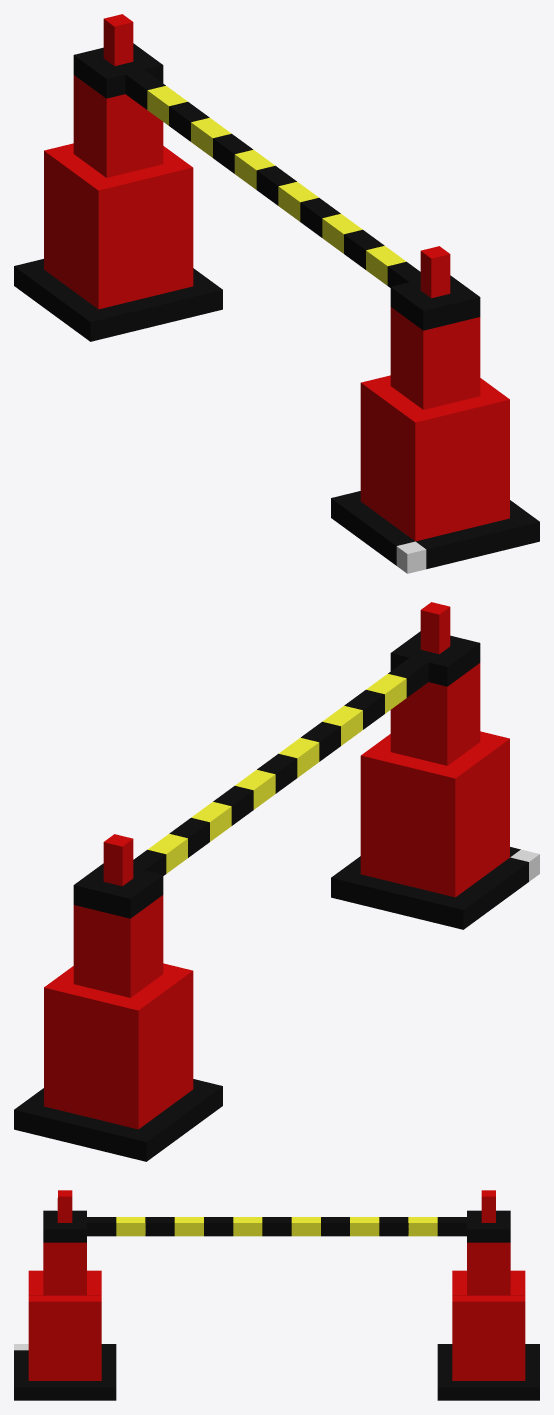
The picture shows the model from 3 angles, top to bottom: view 1: azimuth 30°, elevation 25°; view 2: azimuth 150°, elevation 25°; view 3: azimuth 270°, elevation 25°; orthographic projection. The views are drawn at different scales.
Parts seen in each view (by area): view 1: 立方体.471, 立方体.050, 立方体.506, 立方体.517, 立方体.518, 立方体, 立方体.349, 立方体.374; view 2: 立方体.512, 立方体.043, 立方体.477, 立方体.517, 立方体.518, 立方体.092, 立方体.369, 立方体.394; view 3: 立方体.014, 立方体.049, 立方体.056, 立方体.091, 立方体.353, 立方体.398, 立方体.481, 立方体.486, 立方体.489, 立方体.491, 立方体.494, 立方体.499 (+46 smaller).
Part boxes in pixels (box(x1,y1,x2,y2)): 立方体.471: box(412, 298, 442, 330); 立方体.050: box(79, 309, 109, 341); 立方体.506: box(95, 66, 125, 98); 立方体.517: box(420, 246, 450, 278); 立方体.518: box(103, 14, 133, 46); 立方体: box(396, 541, 426, 573); 立方体.349: box(404, 410, 434, 442); 立方体.374: box(87, 178, 117, 210); 立方体.512: box(111, 886, 141, 918); 立方体.043: box(444, 897, 474, 929); 立方体.477: box(428, 654, 458, 686); 立方体.517: box(420, 602, 450, 634); 立方体.518: box(103, 834, 133, 866); 立方体.092: box(127, 1129, 157, 1161); 立方体.369: box(436, 766, 466, 798); 立方体.394: box(119, 998, 149, 1030); 立方体.014: box(28, 1381, 43, 1400); 立方体.049: box(101, 1381, 116, 1400); 立方体.056: box(437, 1381, 452, 1400); 立方体.091: box(510, 1381, 525, 1400); 立方体.353: box(28, 1295, 43, 1314); 立方体.398: box(510, 1295, 525, 1314); 立方体.481: box(101, 1217, 116, 1236); 立方体.486: box(174, 1217, 189, 1236); 立方体.489: box(218, 1217, 233, 1236); 立方体.491: box(247, 1217, 262, 1236); 立方体.494: box(291, 1217, 306, 1236); 立方体.499: box(364, 1217, 379, 1236).
Size of the model in its own units: 700 by 1400 by 3600.
